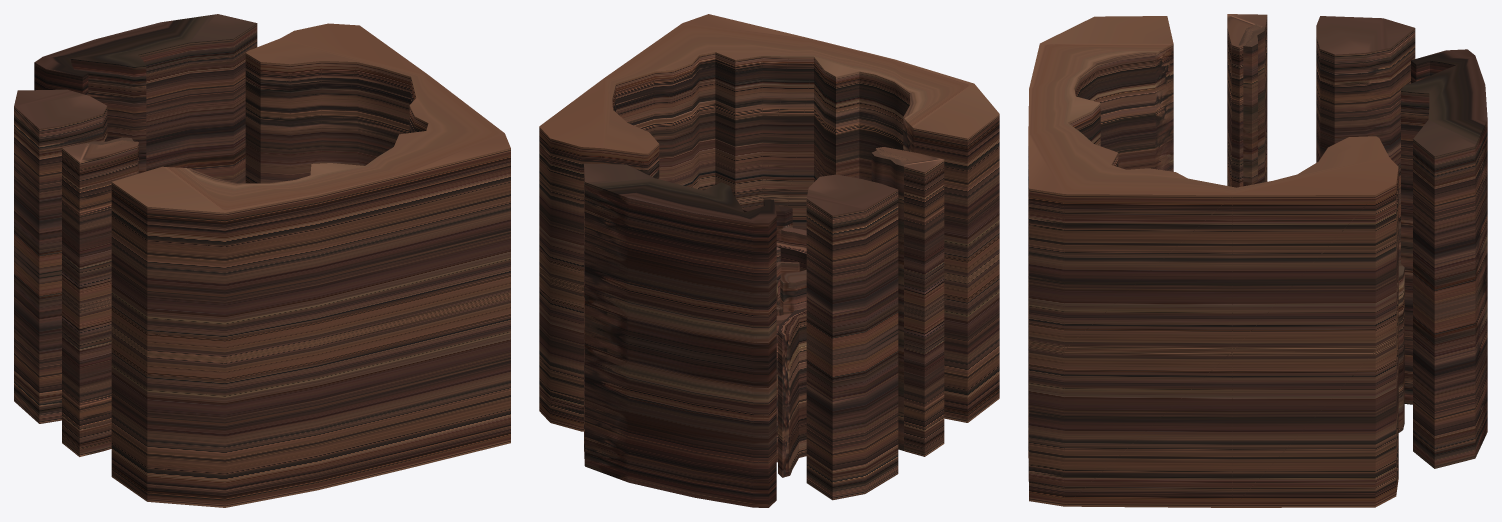
File: TerrainBlocker.fbx
The picture shows the model from 3 angles, left to right: view 1: azimuth 30°, elevation 25°; view 2: azimuth 150°, elevation 25°; view 3: azimuth 270°, elevation 25°; orthographic projection. The views are drawn at different scales.
Visible parts, largest first — view 1: TerrainBlocker; view 2: TerrainBlocker; view 3: TerrainBlocker.
Boxes of the visible parts, <box> form: TerrainBlocker: <box>14,14,510,507</box>; TerrainBlocker: <box>539,14,999,507</box>; TerrainBlocker: <box>1028,14,1487,507</box>.
Bounding box in the file's own units: 5590 × 4490 × 5980.
Materials: 1 (1 with a texture image).
